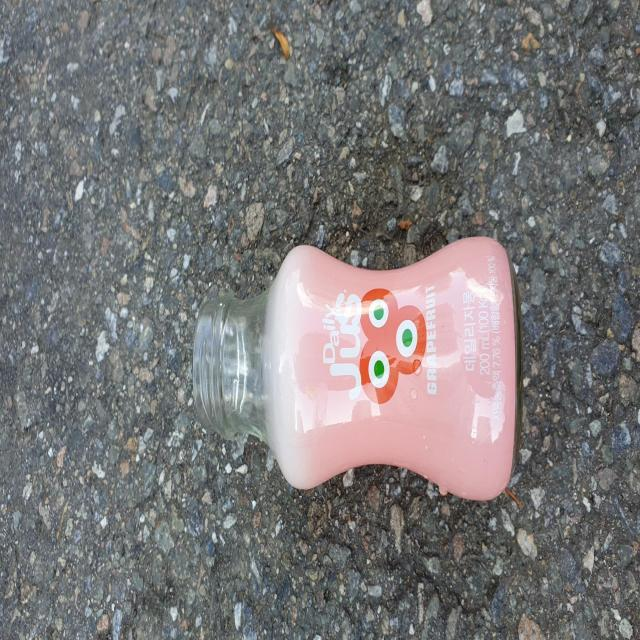glass: (193, 237, 523, 499)
